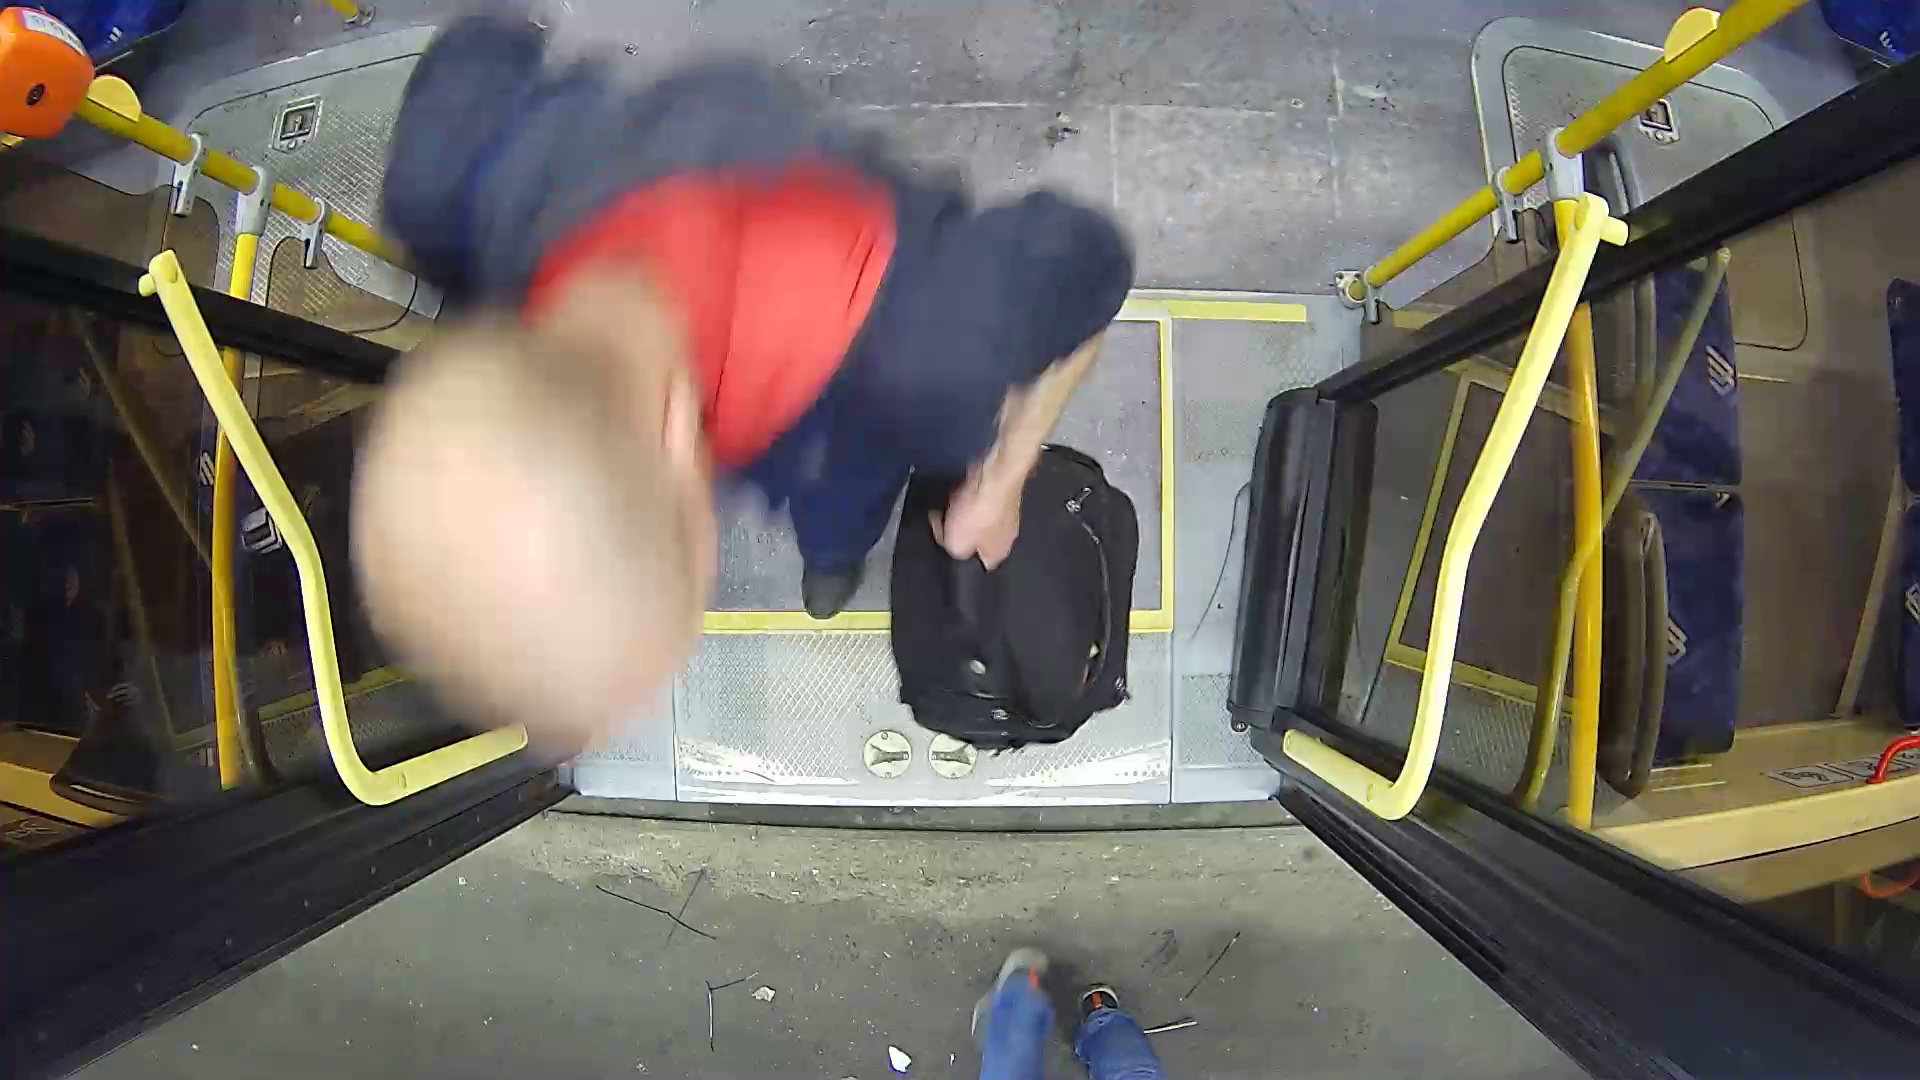person: (155, 94, 1298, 760)
